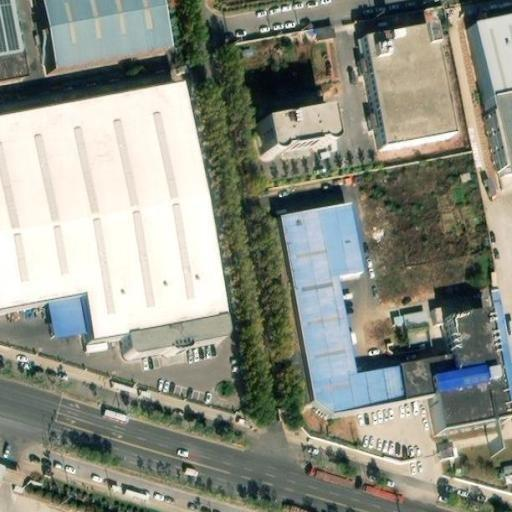building: (280, 201, 404, 413), (398, 307, 512, 427), (355, 31, 450, 152), (41, 0, 173, 68), (462, 15, 512, 188), (128, 314, 234, 353), (258, 118, 327, 160), (50, 296, 91, 338), (312, 22, 336, 40)
